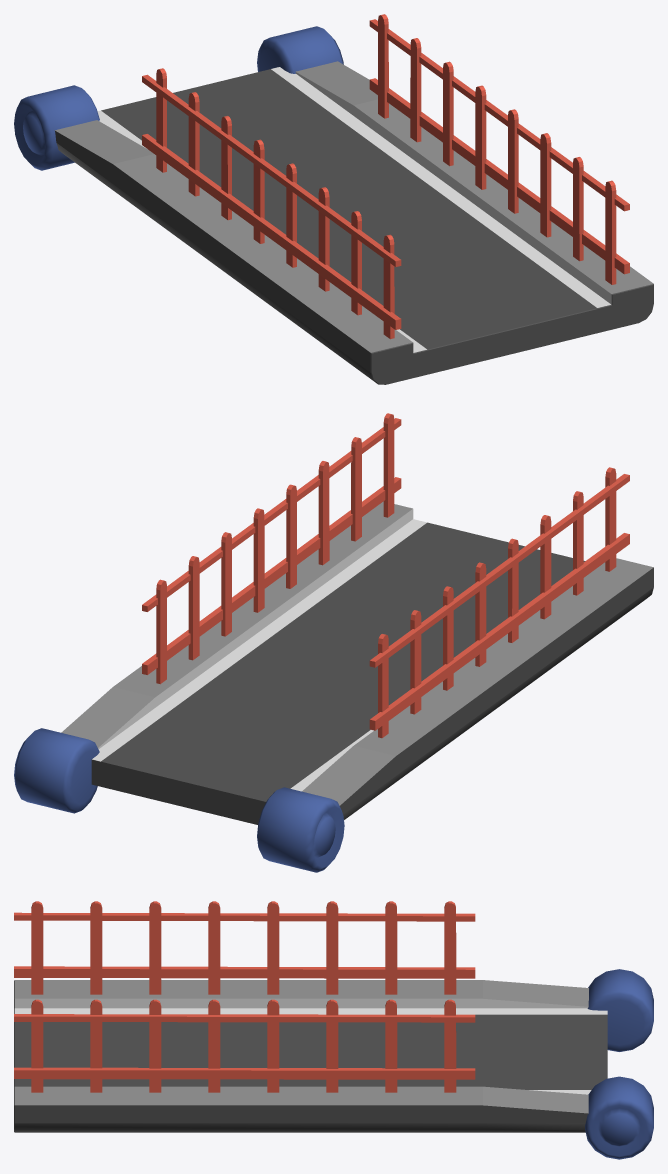
File: Bridge-Elevator.fbx
3 views of the same model, one above another, from view 1: azimuth 30°, elevation 25°; view 2: azimuth 150°, elevation 25°; view 3: azimuth 270°, elevation 25° (orthographic). The views are drawn at different scales.
Visible parts, largest first — view 1: Bridge-Elevator, Bridge-Elevator_Fences, Bridge-ElevatorSidewalk, Bridge-Elevator_Whitelines, Bridge-Elevator_Wheels; view 2: Bridge-Elevator, Bridge-Elevator_Fences, Bridge-ElevatorSidewalk, Bridge-Elevator_Wheels, Bridge-Elevator_Whitelines; view 3: Bridge-Elevator, Bridge-Elevator_Fences, Bridge-ElevatorSidewalk, Bridge-Elevator_Wheels, Bridge-Elevator_Whitelines.
Part boxes in pixels (x1,y1,x2,y2): Bridge-Elevator: [55, 69, 653, 384]; Bridge-Elevator_Fences: [142, 14, 629, 339]; Bridge-ElevatorSidewalk: [55, 61, 653, 352]; Bridge-Elevator_Whitelines: [97, 67, 611, 352]; Bridge-Elevator_Wheels: [14, 26, 343, 170]; Bridge-Elevator: [91, 522, 653, 824]; Bridge-Elevator_Fences: [142, 413, 629, 738]; Bridge-ElevatorSidewalk: [61, 501, 653, 805]; Bridge-Elevator_Wheels: [14, 728, 344, 872]; Bridge-Elevator_Whitelines: [92, 509, 426, 791]; Bridge-Elevator: [14, 980, 607, 1132]; Bridge-Elevator_Fences: [14, 901, 475, 1092]; Bridge-ElevatorSidewalk: [14, 980, 588, 1113]; Bridge-Elevator_Wheels: [585, 969, 653, 1159]; Bridge-Elevator_Whitelines: [14, 998, 607, 1094].
Bounding box in the file's own units: 10.58 × 5.36 × 21.56.
